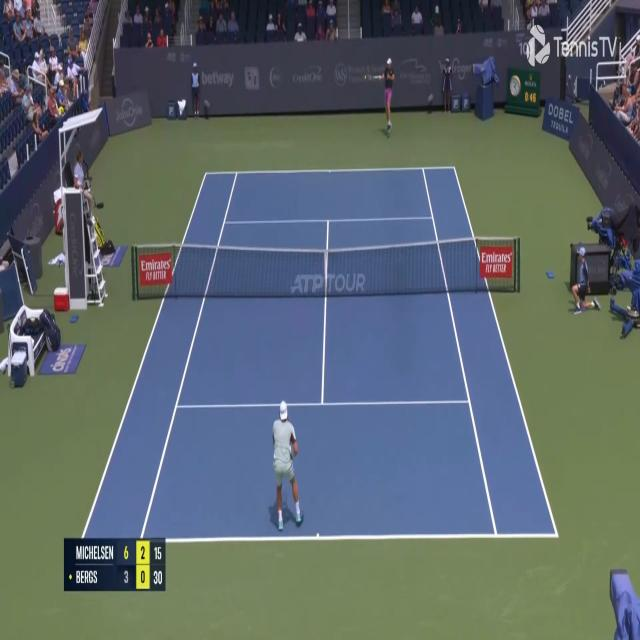tennis-player: (267, 396, 305, 534), (381, 55, 396, 135)
